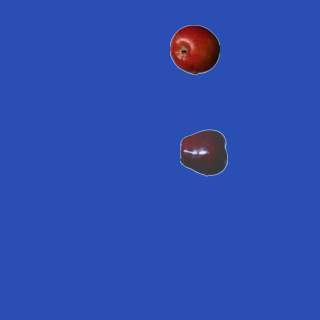Apple Braeburn: (169, 24, 219, 74)
Apple Red Delicious: (179, 127, 229, 177)
